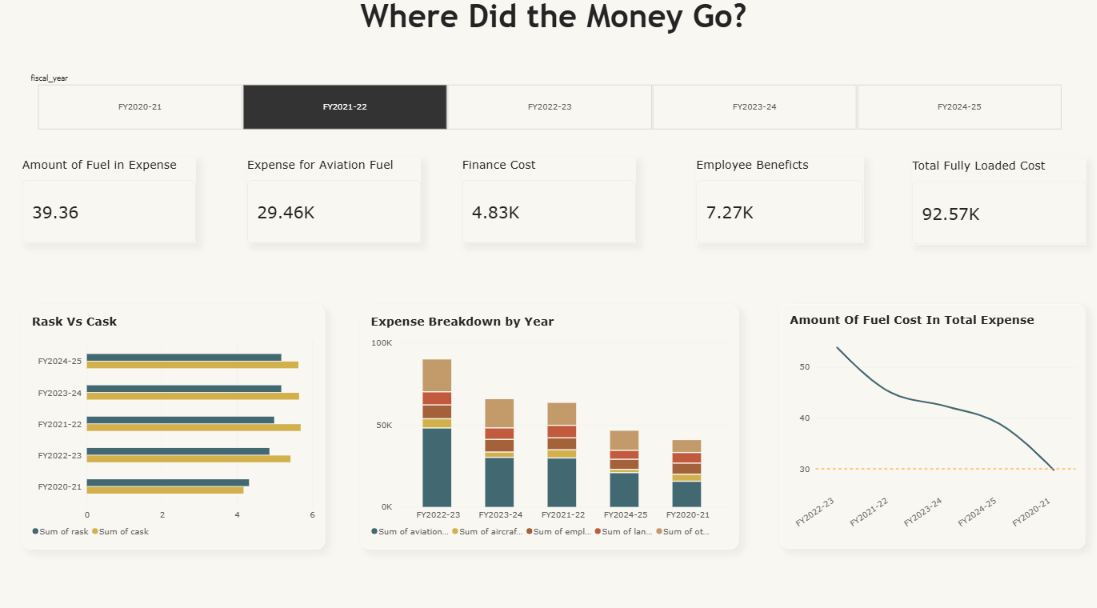

The page's visual inventory and layout, read from the dashboard file:
{"tool":"powerbi","page":{"name":"COST ANALYSIS","canvas":[1920,1080],"ordinal":1},"visuals":[{"type":"textbox","box":[0,0,1824,96],"z":0},{"type":"cardVisual","title":"Amount of  Fuel in Expense","fields":{"Data":["spicejet_analysis financial_summary.fuel_pct_of_expenses"]},"box":[40.1,282.6,303.5,149.8],"z":1000},{"type":"cardVisual","title":"Employee Beneficts","fields":{"Data":["Sum(spicejet_analysis expense_breakdown.employee_benefits)"]},"box":[1215.7,282.6,291.6,149.8],"z":2000},{"type":"cardVisual","title":"Expense for Aviation Fuel","fields":{"Data":["Sum(spicejet_analysis expense_breakdown.aviation_turbine_fuel)"]},"box":[432.6,282.6,303,150],"z":3000},{"type":"cardVisual","title":"Finance Cost","fields":{"Data":["Sum(spicejet_analysis expense_breakdown.finance_costs)"]},"box":[808.2,283.4,303,150],"z":4000},{"type":"cardVisual","title":"Total Fully Loaded Cost","fields":{"Data":["Sum(spicejet_analysis expense_breakdown.fully_loaded_total_costs)"]},"box":[1592.2,283.8,303,150],"z":5000},{"type":"clusteredBarChart","title":"Rask Vs Cask","fields":{"Y":["Sum(spicejet_analysis key_ratios.rask)","Sum(spicejet_analysis key_ratios.cask)"],"Category":["spicejet_analysis financial_summary.fiscal_year"]},"box":[40.1,540.7,528.1,425.6],"z":6000},{"type":"lineChart","title":"Amount Of  Fuel Cost In Total Expense","fields":{"Category":["spicejet_analysis financial_summary.fiscal_year"],"Y":["spicejet_analysis financial_summary.fuel_pct_of_revenue"]},"box":[1362.2,539,532.2,426.3],"z":7000},{"type":"columnChart","title":"Expense Breakdown by Year","fields":{"Category":["spicejet_analysis financial_summary.fiscal_year"],"Y":["Sum(spicejet_analysis expense_breakdown.aviation_turbine_fuel)","Sum(spicejet_analysis expense_breakdown.aircraft_repairs_maintenance)","Sum(spicejet_analysis expense_breakdown.employee_benefits)","Sum(spicejet_analysis expense_breakdown.landing_navigation_airport)","Sum(spicejet_analysis expense_breakdown.other_operating_items)"]},"box":[631.4,540.7,658.1,425.6],"z":8000},{"type":"slicer","fields":{"Values":["spicejet_analysis financial_summary.fiscal_year"]},"box":[47.1,137.8,1824.4,97.7],"z":9000}]}

Visuals, with their boxes in screenshot pixels (x1, y1, x2, y2), scaled from the page's 1920x1080 canvas onto the 1097x608 screenshot:
textbox: <box>0,0,1042,54</box>
"Amount of  Fuel in Expense" cardVisual: <box>23,159,196,243</box>
"Employee Beneficts" cardVisual: <box>695,159,861,243</box>
"Expense for Aviation Fuel" cardVisual: <box>247,159,420,244</box>
"Finance Cost" cardVisual: <box>462,160,635,244</box>
"Total Fully Loaded Cost" cardVisual: <box>910,160,1083,244</box>
"Rask Vs Cask" clusteredBarChart: <box>23,304,325,544</box>
"Amount Of  Fuel Cost In Total Expense" lineChart: <box>778,303,1082,543</box>
"Expense Breakdown by Year" columnChart: <box>361,304,737,544</box>
slicer - spicejet_analysis financial_summary.fiscal_year: <box>27,78,1069,133</box>
